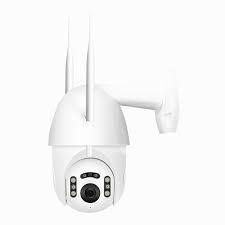maru: (50, 84, 134, 218)
